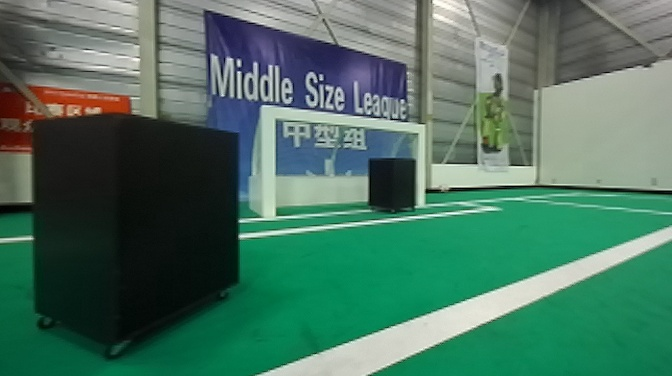goalpost: (260, 102, 280, 219), (411, 124, 430, 205)
